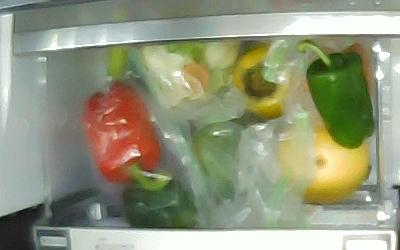grapefruit_vinyl: (278, 119, 369, 205)
lettuce_vinyl: (137, 39, 240, 112)
paprika: (296, 39, 375, 150)
paprika_vinyl: (84, 81, 170, 192), (193, 123, 246, 203), (123, 172, 197, 228)
persimmon_vinyl: (234, 45, 290, 119)
